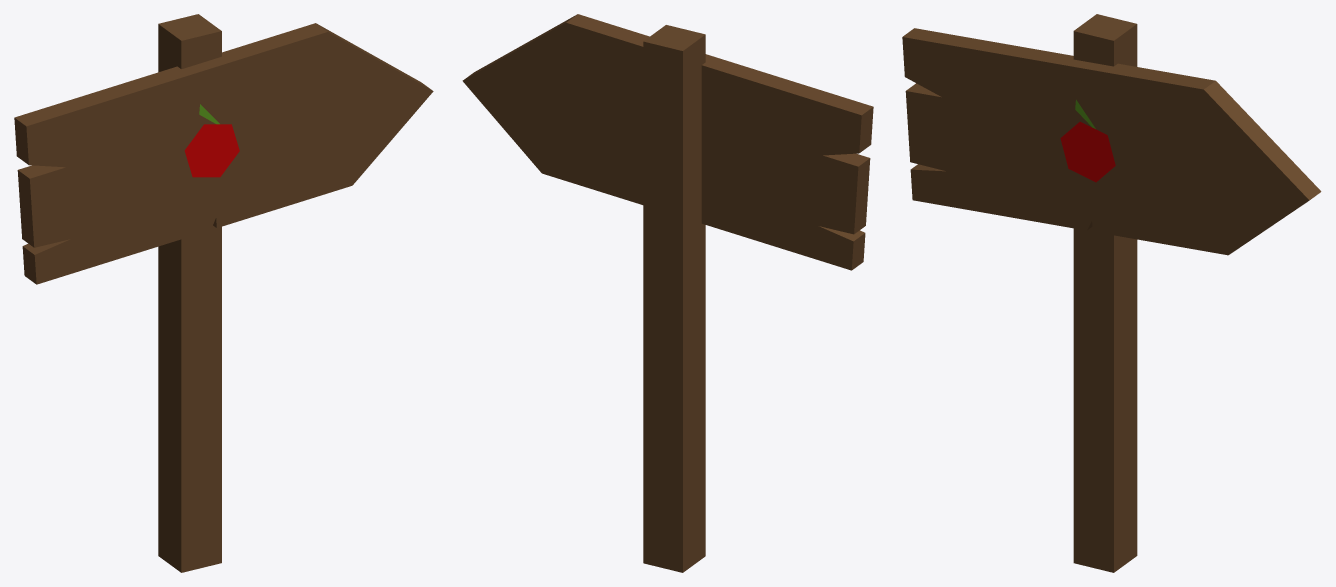
The model's file is Sign_Wooden_Apples_01.fbx.
3 renders of one model, left to right at view 1: azimuth 30°, elevation 25°; view 2: azimuth 150°, elevation 25°; view 3: azimuth 330°, elevation 25°, orthographic.
Parts seen in each view (by area): view 1: Sign_Wooden_Apples_01 (×2); view 2: Sign_Wooden_Apples_01 (×2); view 3: Sign_Wooden_Apples_01 (×2).
Boxes of the visible parts, bbox=[...] form: Sign_Wooden_Apples_01 (×2): bbox=[14, 14, 433, 572]; Sign_Wooden_Apples_01 (×2): bbox=[462, 14, 873, 572]; Sign_Wooden_Apples_01 (×2): bbox=[902, 14, 1321, 572].
Size of the model in its own units: 38.77 by 48.4 by 5.17.
